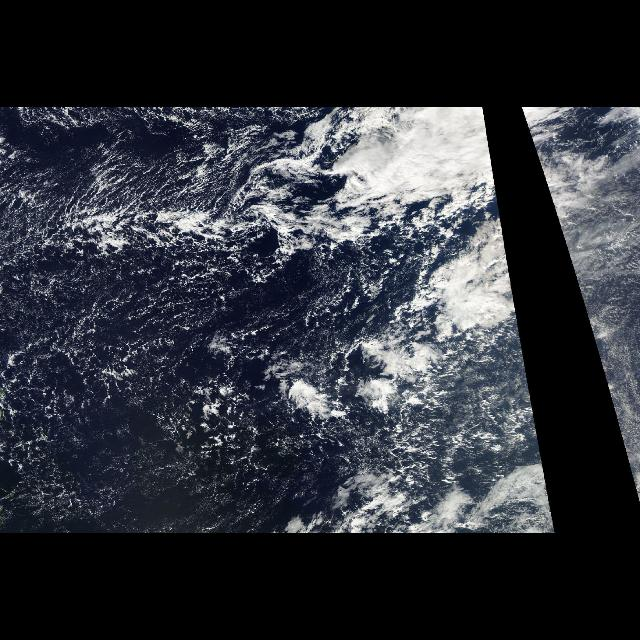Gravel: (4, 112, 318, 474)
